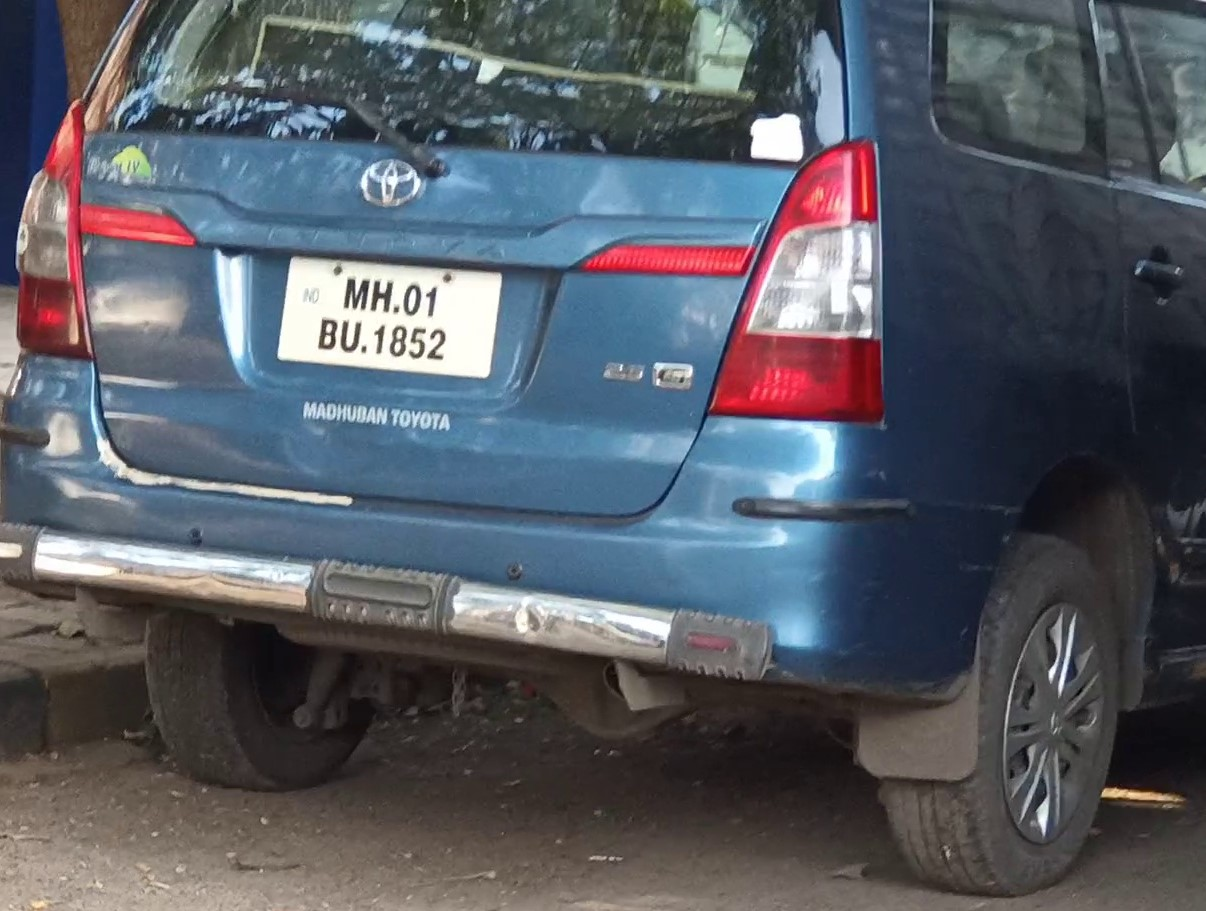MH01BU1852: (277, 262, 502, 378)
